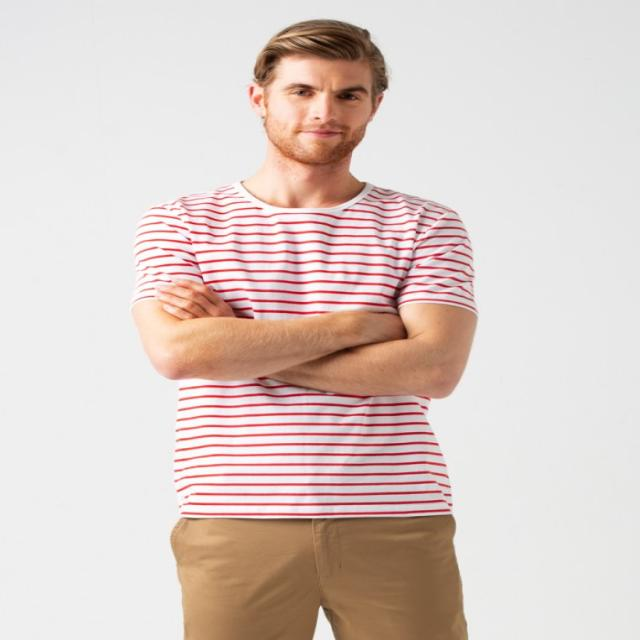mobile_phonerotation: (129, 18, 480, 638)
